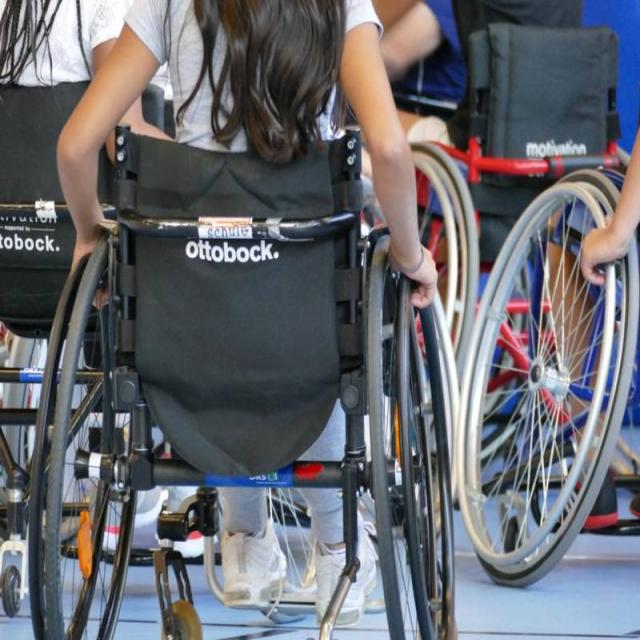wheelchairs: (27, 136, 459, 640), (457, 168, 636, 590), (413, 22, 614, 383)
